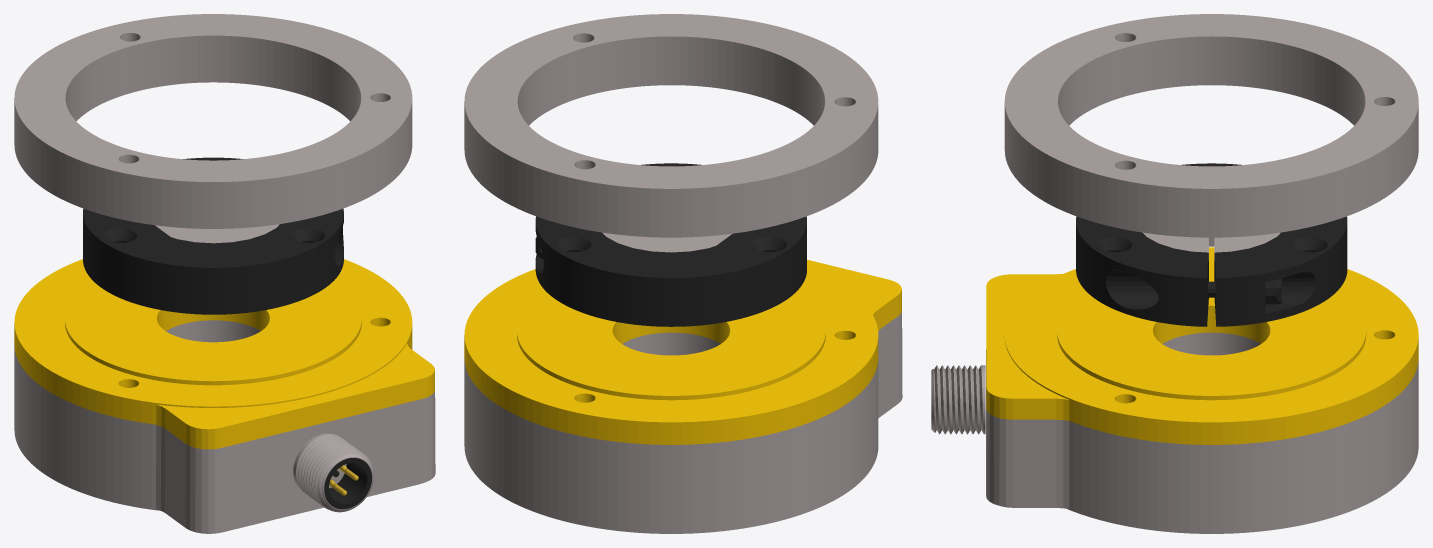
File: encodereatuador.glb
3 views of the same model, side by side, from view 1: azimuth 30°, elevation 25°; view 2: azimuth 150°, elevation 25°; view 3: azimuth 270°, elevation 25° (orthographic). The views are drawn at different scales.
Bounding box in the file's own units: 0.077 × 0.0708 × 0.0907.
